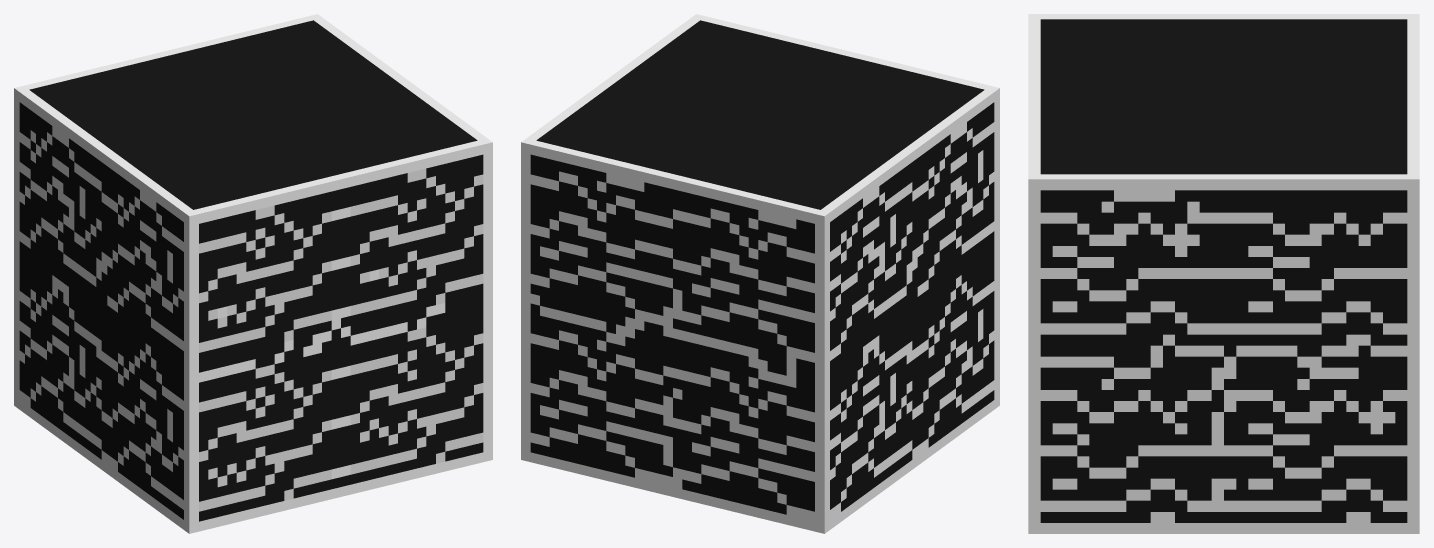
Rendered from Huge_Block.fbx.
3 renders of one model, left to right at view 1: azimuth 30°, elevation 25°; view 2: azimuth 150°, elevation 25°; view 3: azimuth 270°, elevation 25°, orthographic. The views are drawn at different scales.
Visible parts, largest first — view 1: Huge_Block; view 2: Huge_Block; view 3: Huge_Block.
Boxes of the visible parts, x1,y1,x2,y2 form: Huge_Block: (14,14,492,533); Huge_Block: (521,14,999,533); Huge_Block: (1028,14,1419,533).
Size of the model in its own units: 3.2 by 3.2 by 3.2.
Materials: 1 (1 with a texture image).
